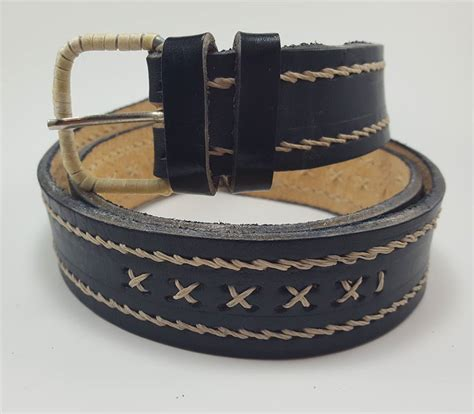cuero: (38, 32, 446, 362)
